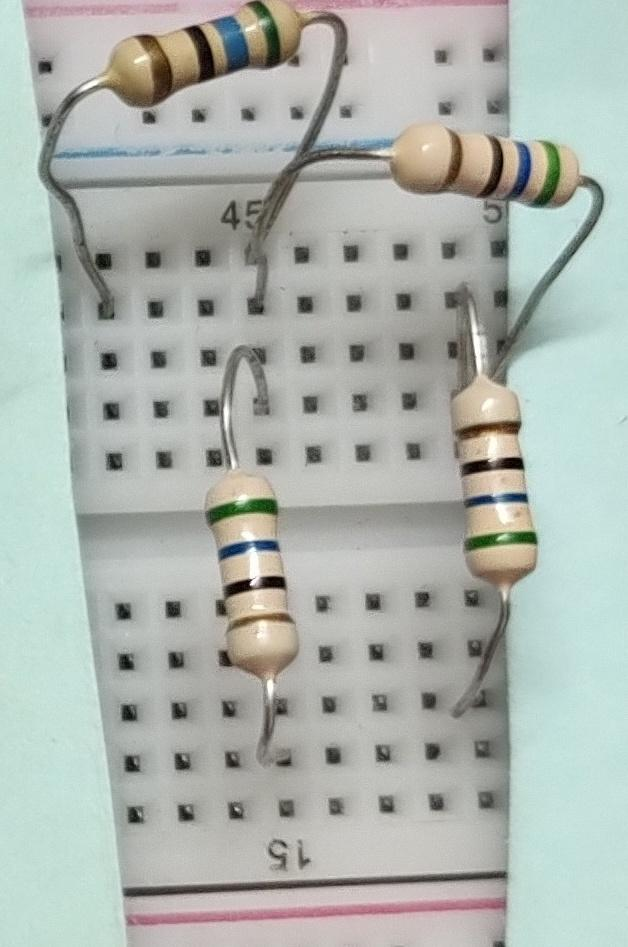resistor: (99, 0, 312, 127), (205, 463, 313, 692), (445, 363, 545, 603), (383, 115, 586, 215)
